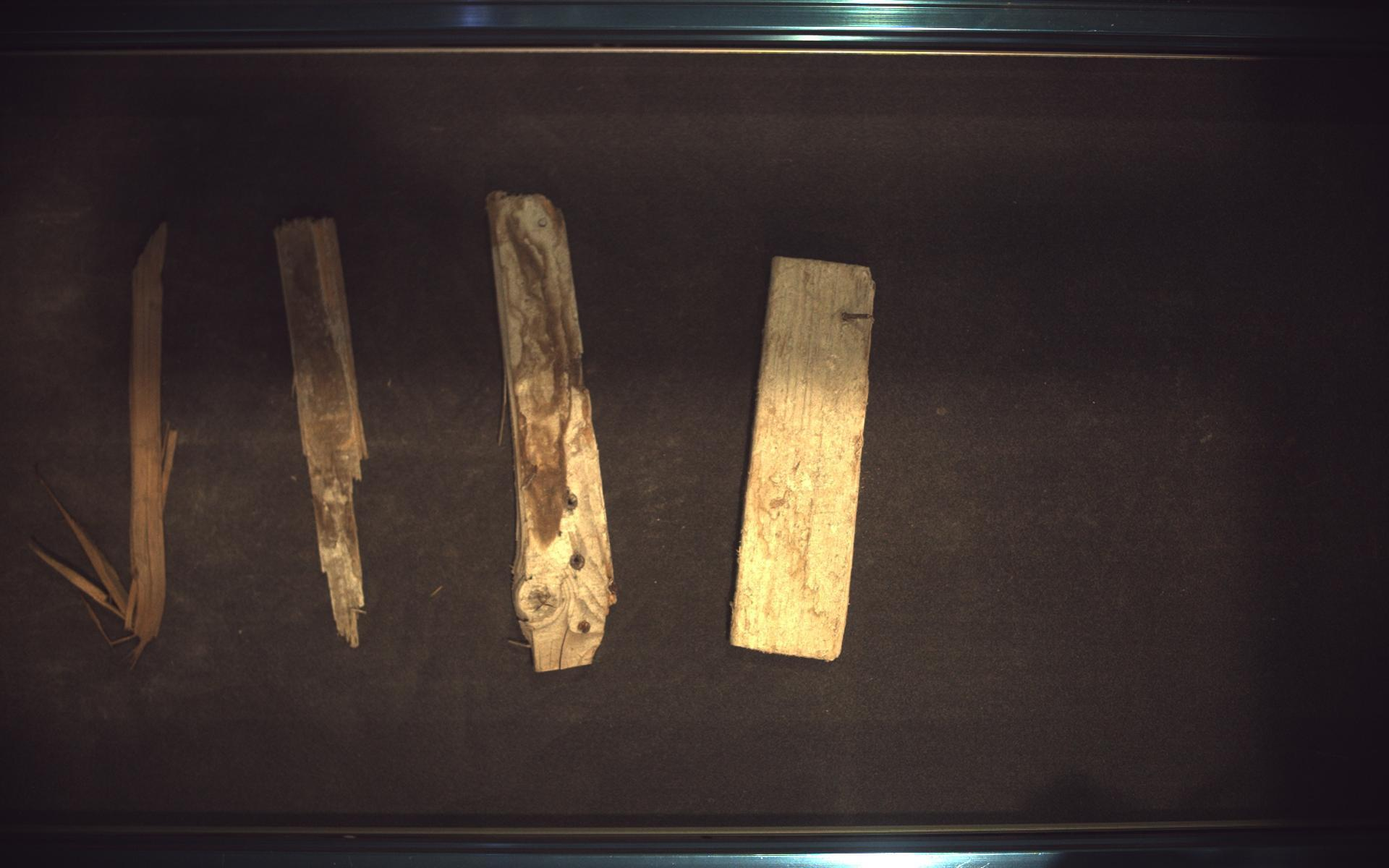wood: (28, 223, 176, 668), (487, 191, 617, 673), (731, 257, 876, 661), (274, 217, 367, 648)
